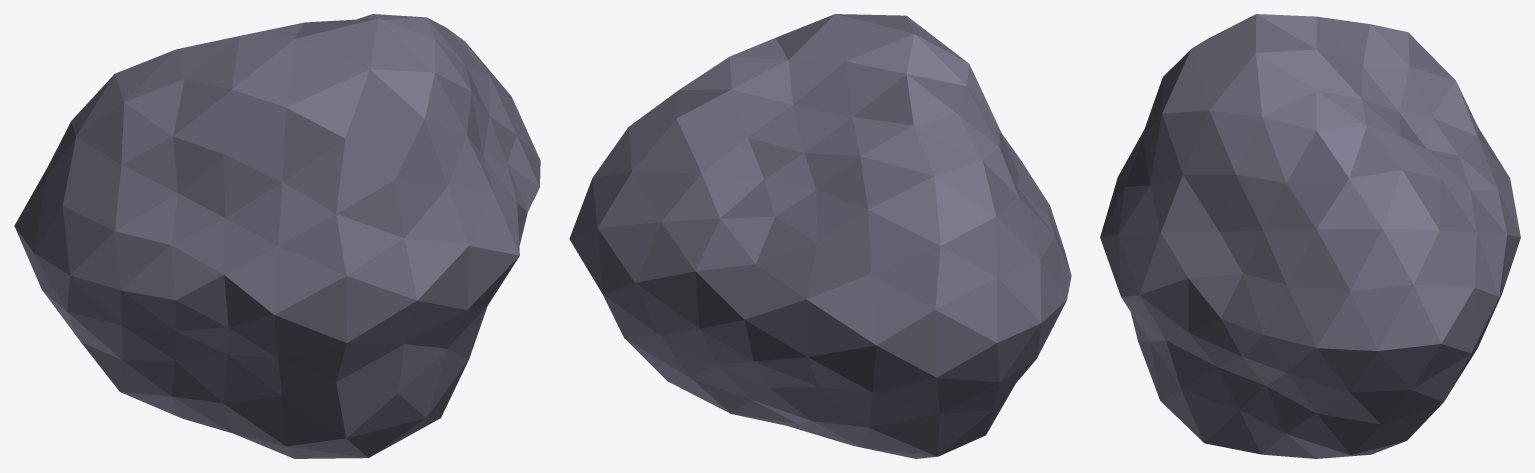
The model's file is Asteroid_Basalt.glb.
The picture shows the model from 3 angles, left to right: view 1: azimuth 30°, elevation 25°; view 2: azimuth 150°, elevation 25°; view 3: azimuth 270°, elevation 25°; orthographic projection. The views are drawn at different scales.
Visible parts, largest first — view 1: Fractured rock; view 2: Fractured rock; view 3: Fractured rock.
Boxes of the visible parts, x1=… form: Fractured rock: x1=14, y1=14, x2=540, y2=458; Fractured rock: x1=569, y1=14, x2=1071, y2=458; Fractured rock: x1=1100, y1=14, x2=1520, y2=458.
Bounding box in the file's own units: 2.31 × 1.93 × 1.82.
